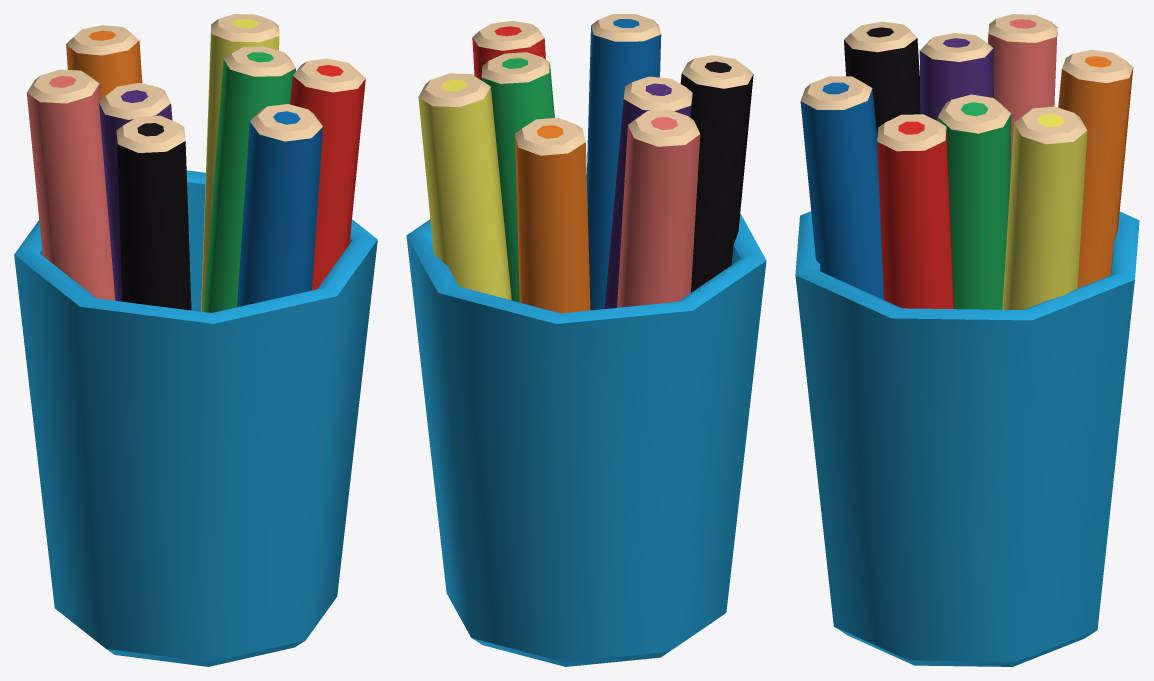
File: Pencils_1.fbx
3 views of the same model, side by side, from view 1: azimuth 30°, elevation 25°; view 2: azimuth 150°, elevation 25°; view 3: azimuth 270°, elevation 25° (orthographic).
Parts seen in each view (by area): view 1: Pencils_1; view 2: Pencils_1; view 3: Pencils_1.
Boxes of the visible parts, x1,y1,x2,y2 form: Pencils_1: (14,14,377,666); Pencils_1: (406,14,766,666); Pencils_1: (795,14,1139,666).
Bounding box in the file's own units: 0.093 × 0.1617 × 0.093.
